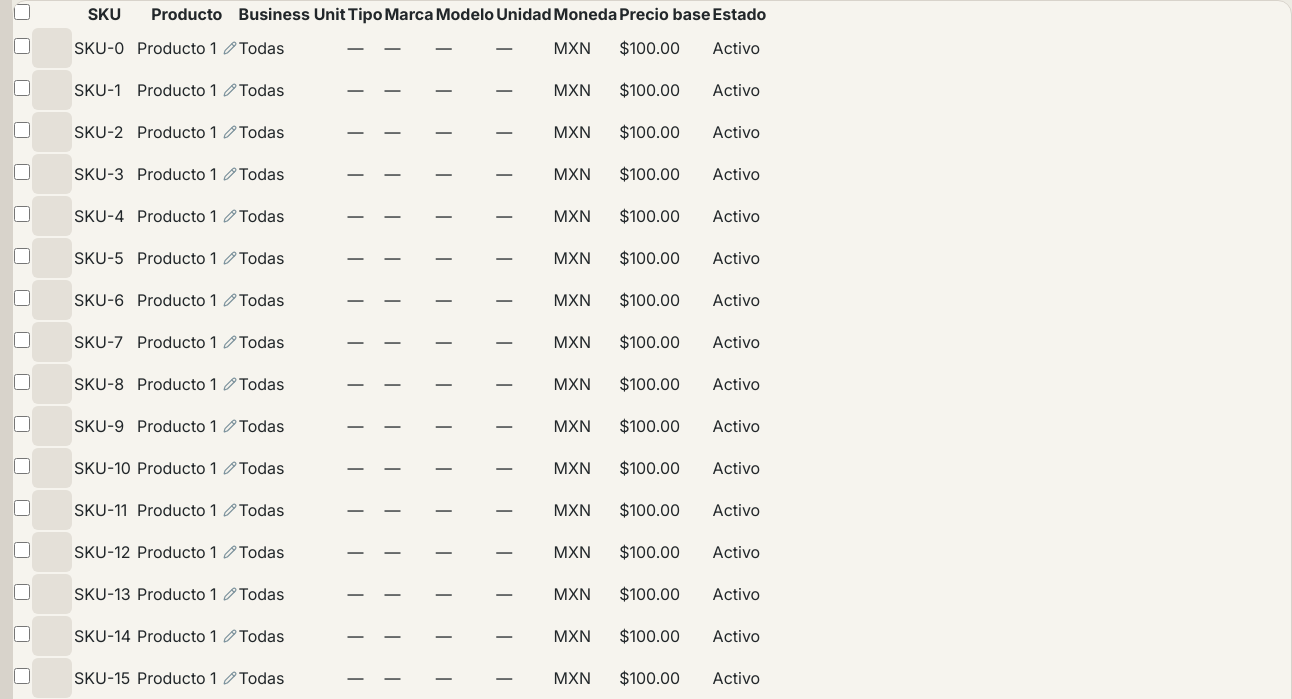
CatalogSelectionTable (ajuste de cierre — selección múltiple / eliminar del catálogo) › fix — la selección nunca sobrevive a un cambio del conjunto `products` › 'Seleccionar todos los visibles' nunca excede el tamaño de la página recibida, incluso con una página grande (50)
The width and height of the screenshot is (1292, 699).
Click the checkbox named "Seleccionar todos los visibles": (22, 12) [14,4,30,20]
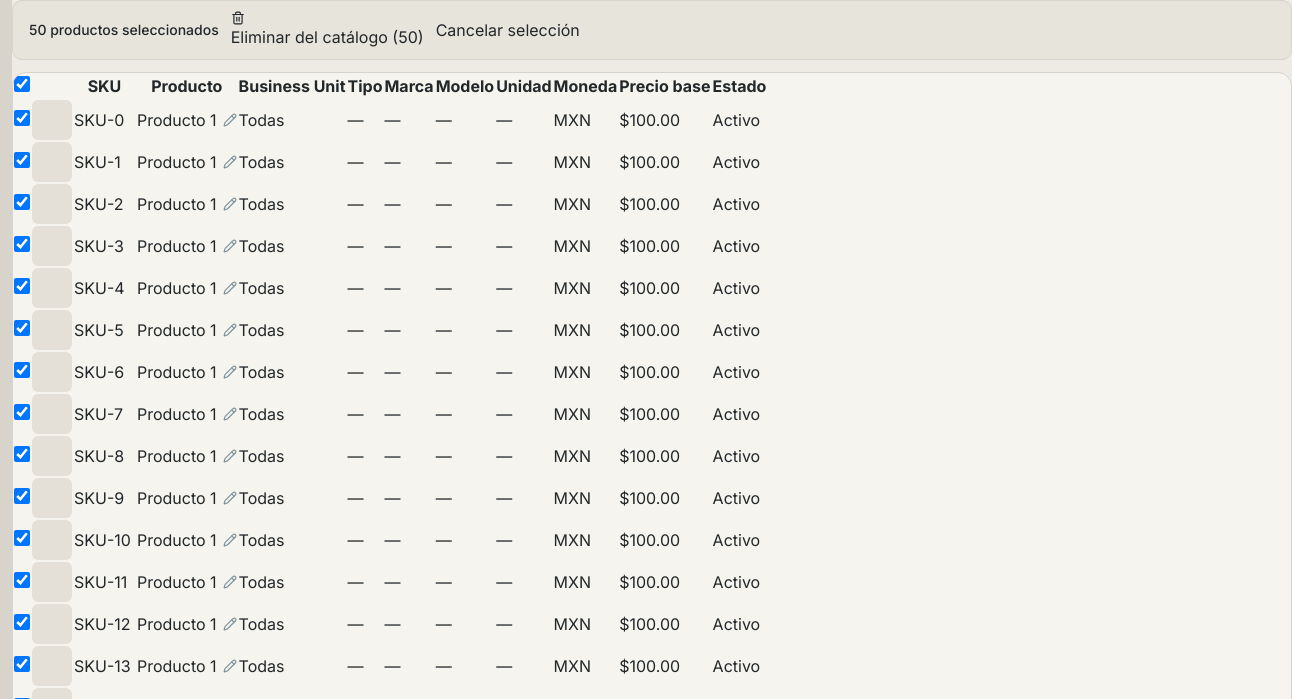
Now the text "50 productos seleccionados" is shown, box [29,20,219,40]
Now the button "Eliminar del catálogo (50)" is shown, box [231,11,424,49]
